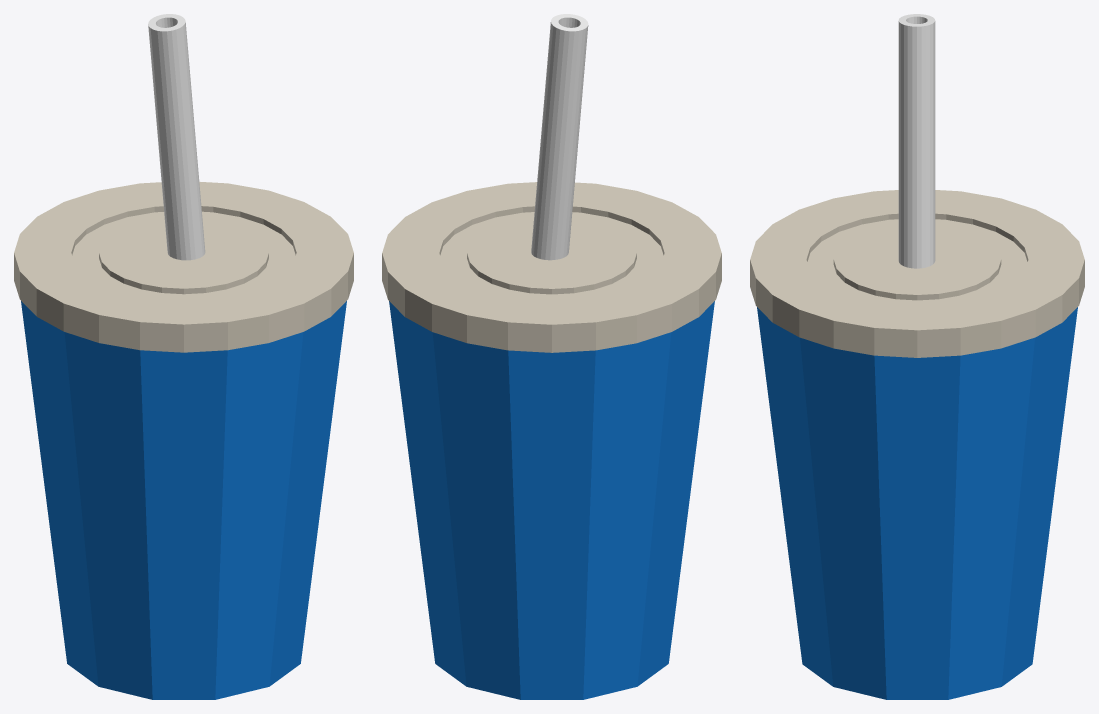
Rendered from Fast Food Cup 3.obj.
3 renders of one model, left to right at view 1: azimuth 30°, elevation 25°; view 2: azimuth 150°, elevation 25°; view 3: azimuth 270°, elevation 25°, orthographic.
Visible parts, largest first — view 1: Fast_Food_Cup_3; view 2: Fast_Food_Cup_3; view 3: Fast_Food_Cup_3.
Boxes of the visible parts, box(x1,y1,x2,y2) form: Fast_Food_Cup_3: box(14, 14, 353, 699); Fast_Food_Cup_3: box(382, 14, 721, 699); Fast_Food_Cup_3: box(750, 14, 1084, 699).
Size of the model in its own units: 0.5818 by 1.2 by 0.5818.
